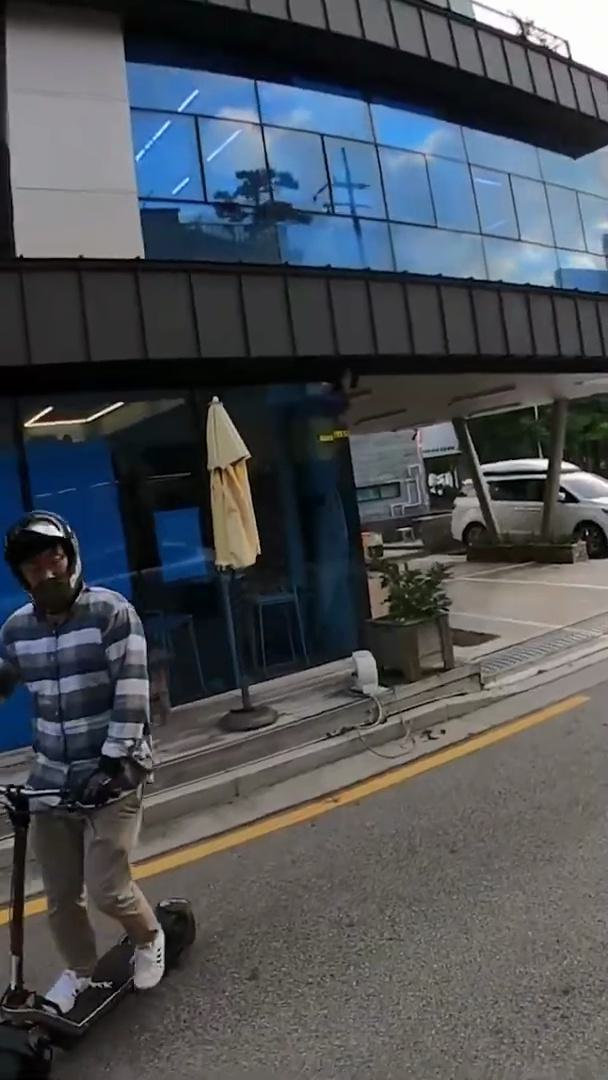helmet: (2, 504, 200, 1080)
